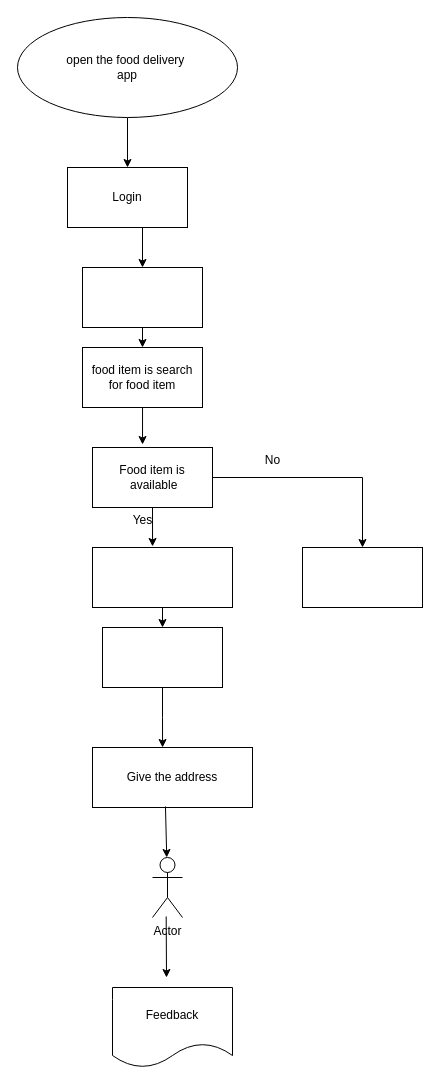
This 440x1085 diagram has some shape labels left out. Here are the shapes that lost their labels. From the top down, the centre of each, then its label:
At [142,297]: "search for food item".
At [162,577]: "place the order".
At [362,577]: "search for another item".
At [162,657]: "Payment".
